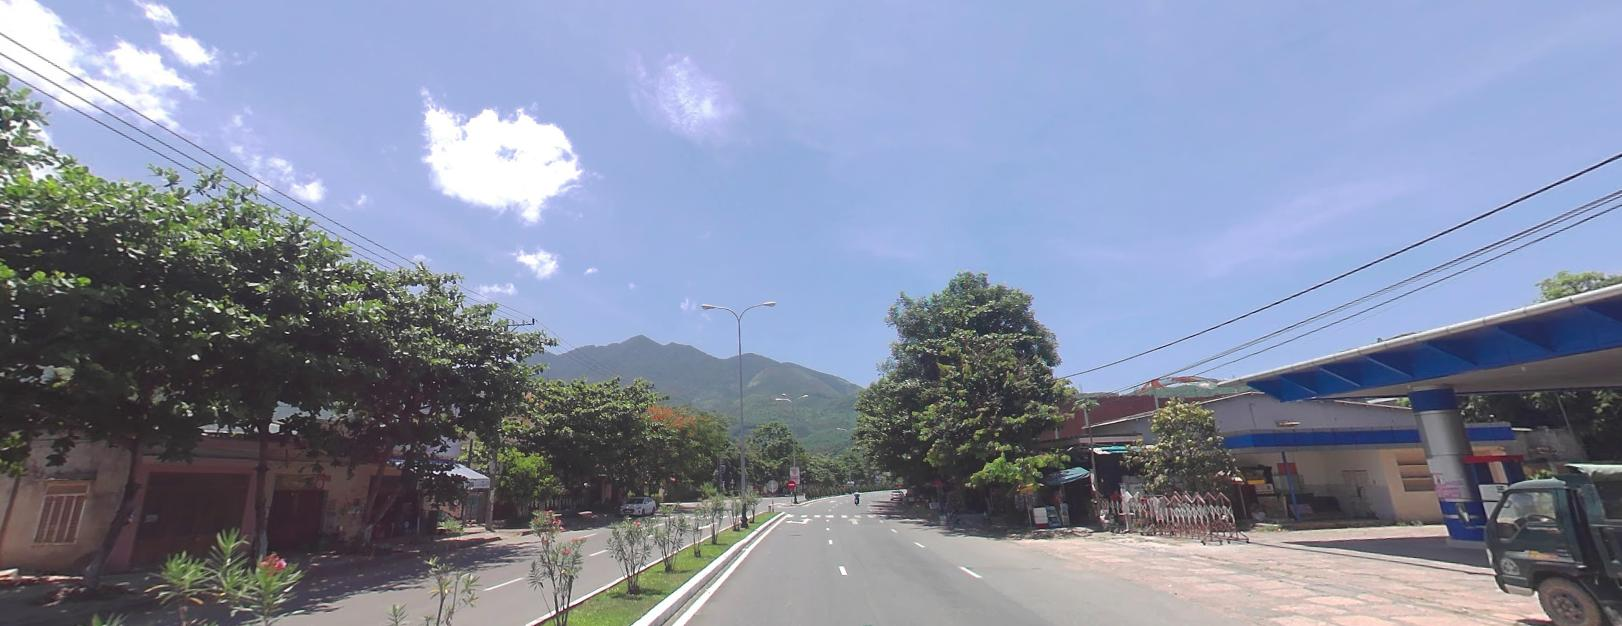Cam nguoc chieu: (787, 479, 795, 487)
